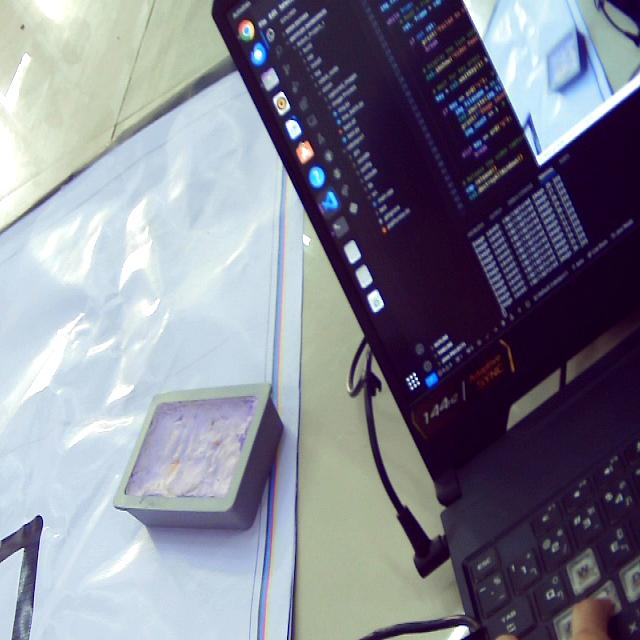block: (110, 383, 280, 532)
